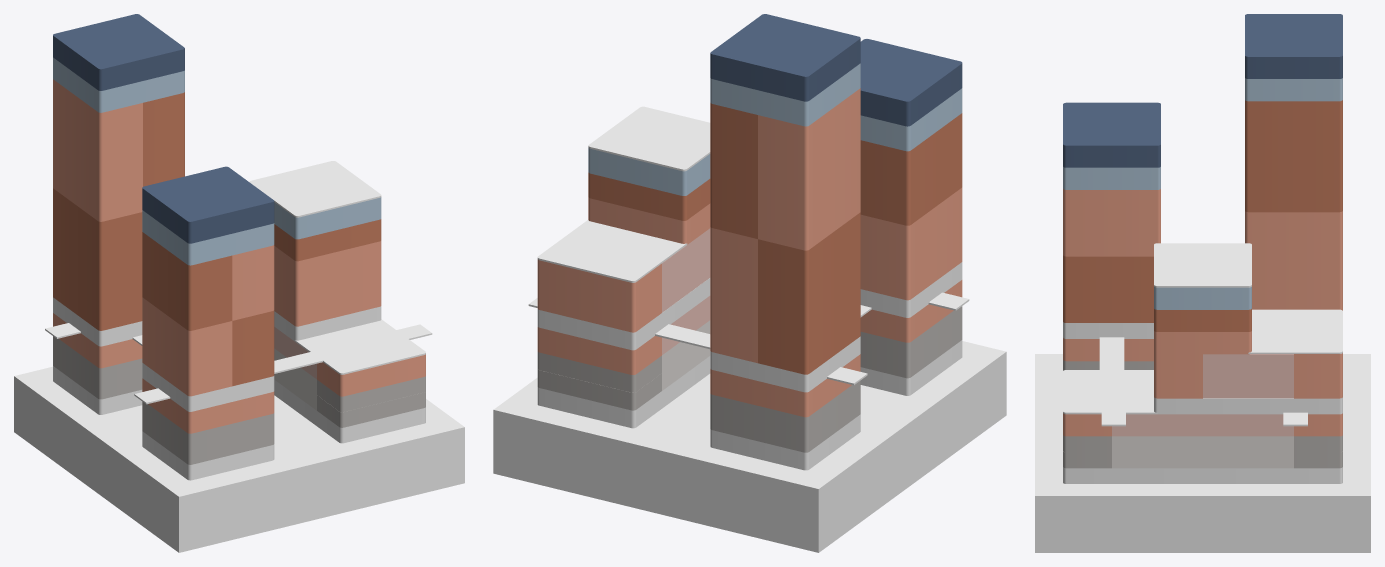
3 renders of one model, left to right at view 1: azimuth 30°, elevation 25°; view 2: azimuth 150°, elevation 25°; view 3: azimuth 270°, elevation 25°, orthographic. The views are drawn at different scales.
Visible parts, largest first — view 1: Komponente#1, Komponente#4 (×22), Komponente#5 (×17), Komponente#7 (×2), Komponente#6 (×3), Komponente#17 (×2), Komponente#3 (×4), Komponente#2 (×4), Komponente#13 (×2), Komponente#12, Komponente#18, Komponente#15 (+1 smaller); view 2: Komponente#1, Komponente#4 (×32), Komponente#5 (×15), Komponente#7 (×2), Komponente#17 (×2), Komponente#6 (×3), Komponente#3 (×4), Komponente#2 (×4), Komponente#13 (×2), Komponente#12, Komponente#18, Komponente#15 (×2) (+2 smaller); view 3: Komponente#1, Komponente#4 (×25), Komponente#5 (×9), Komponente#7 (×2), Komponente#17 (×3), Komponente#16 (×8), Komponente#6 (×3), Komponente#15 (×4), Komponente#12, Komponente#13 (×4), Komponente#18, Komponente#2 (+2 smaller).
Boxes of the visible parts, bbox=[...] form: Komponente#1: bbox=[14, 366, 464, 552]; Komponente#4 (×22): bbox=[75, 96, 425, 433]; Komponente#5 (×17): bbox=[53, 92, 381, 386]; Komponente#7 (×2): bbox=[53, 14, 274, 243]; Komponente#6 (×3): bbox=[53, 57, 381, 265]; Komponente#17 (×2): bbox=[249, 161, 425, 374]; Komponente#3 (×4): bbox=[53, 336, 274, 464]; Komponente#2 (×4): bbox=[53, 297, 274, 480]; Komponente#13 (×2): bbox=[317, 376, 425, 427]; Komponente#12: bbox=[274, 380, 425, 443]; Komponente#18: bbox=[274, 306, 381, 340]; Komponente#15: bbox=[274, 371, 316, 410]; Komponente#1: bbox=[493, 341, 1006, 552]; Komponente#4 (×32): bbox=[537, 88, 962, 417]; Komponente#5 (×15): bbox=[588, 103, 962, 374]; Komponente#7 (×2): bbox=[710, 14, 962, 126]; Komponente#17 (×2): bbox=[537, 106, 710, 282]; Komponente#6 (×3): bbox=[588, 63, 962, 195]; Komponente#3 (×4): bbox=[710, 306, 962, 452]; Komponente#2 (×4): bbox=[710, 262, 962, 470]; Komponente#13 (×2): bbox=[537, 352, 661, 410]; Komponente#12: bbox=[537, 356, 710, 428]; Komponente#18: bbox=[537, 278, 710, 350]; Komponente#15 (×2): bbox=[662, 320, 710, 390]; Komponente#1: bbox=[1035, 354, 1370, 552]; Komponente#4 (×25): bbox=[1063, 189, 1342, 436]; Komponente#5 (×9): bbox=[1063, 100, 1342, 331]; Komponente#7 (×2): bbox=[1063, 14, 1342, 167]; Komponente#17 (×3): bbox=[1063, 243, 1342, 414]; Komponente#16 (×8): bbox=[1112, 354, 1293, 436]; Komponente#6 (×3): bbox=[1063, 78, 1342, 309]; Komponente#15 (×4): bbox=[1112, 436, 1293, 468]; Komponente#12: bbox=[1063, 467, 1342, 483]; Komponente#13 (×4): bbox=[1063, 435, 1342, 468]; Komponente#18: bbox=[1154, 397, 1342, 414]; Komponente#2: bbox=[1063, 322, 1153, 338].
Size of the model in its own units: 96 by 129 by 96.
